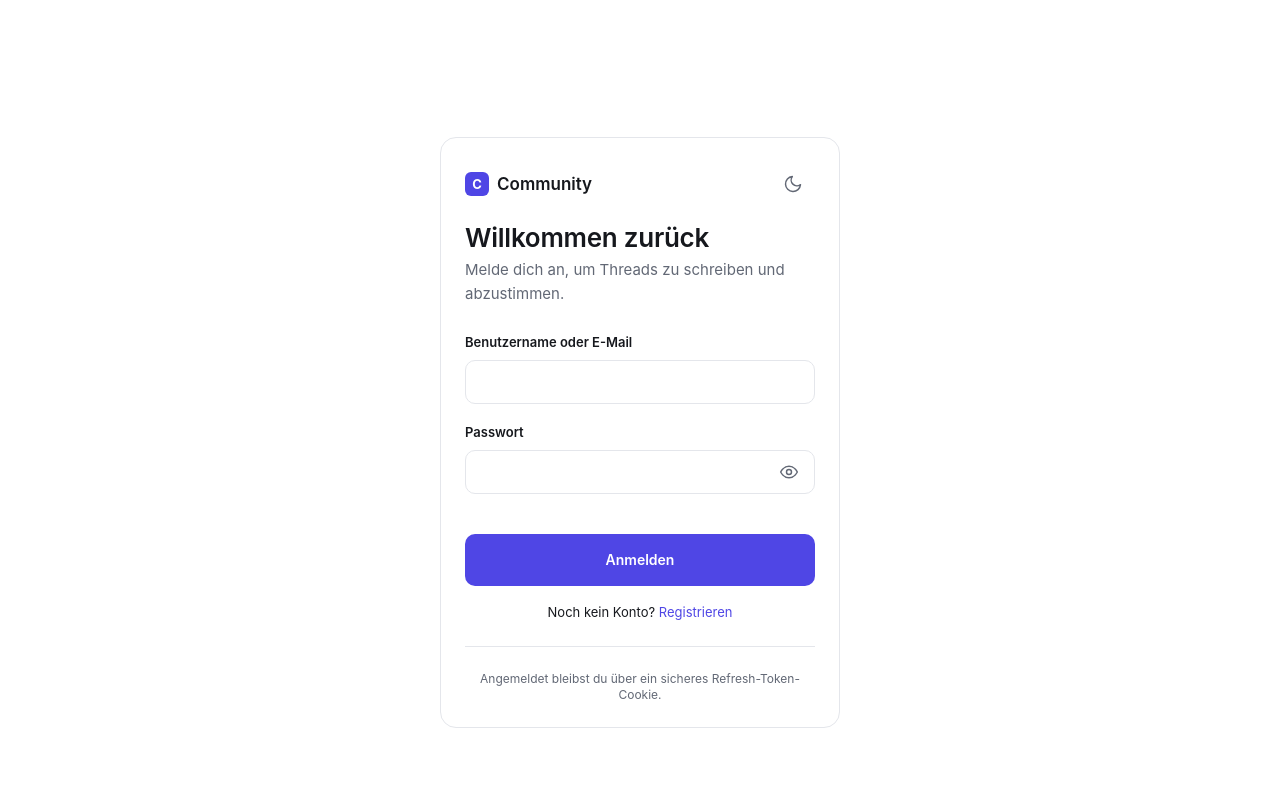
Scenario: forum authentication screens › signs in and lands on the home page with the account in the header
In the field labelled "Benutzername oder E-Mail": (640, 382) [465,360,815,404], type "mara@example.com"
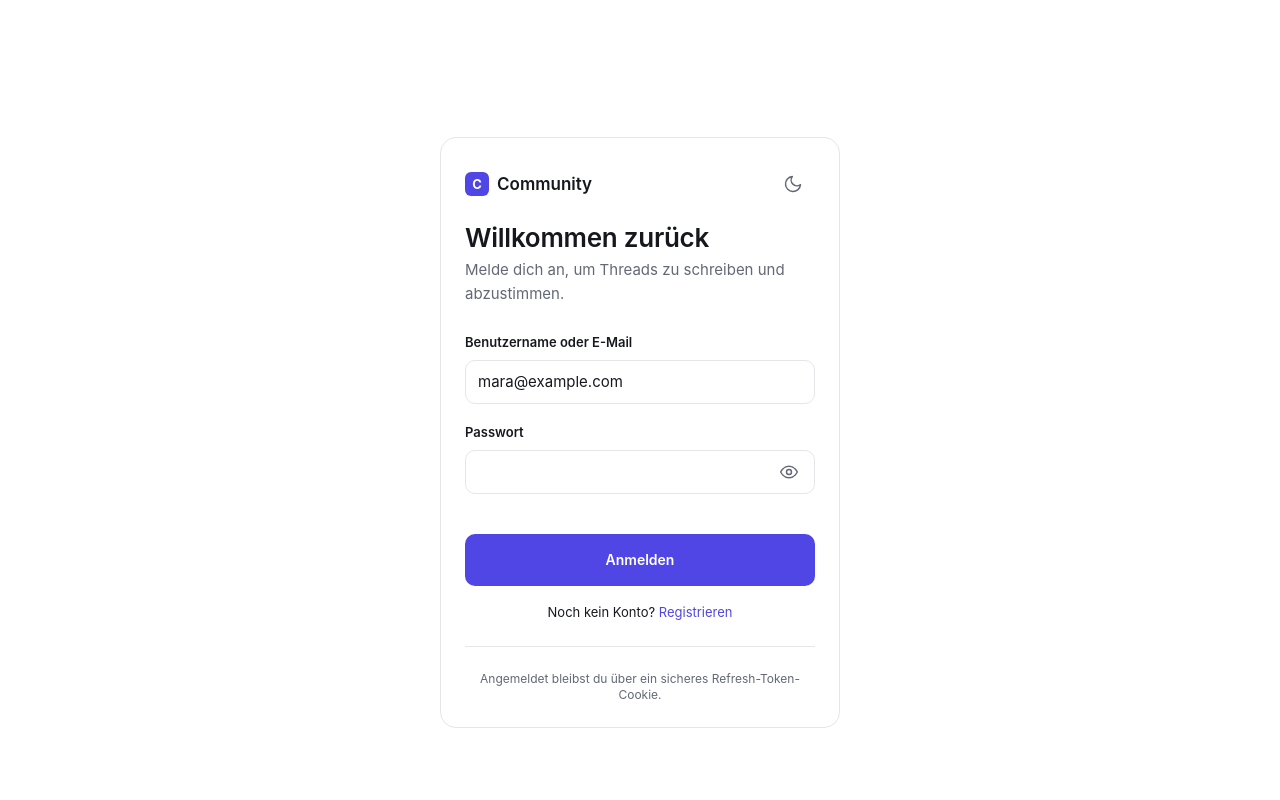
In the password field labelled "Passwort": (640, 472) [465,450,815,494], type "Sommer2026"
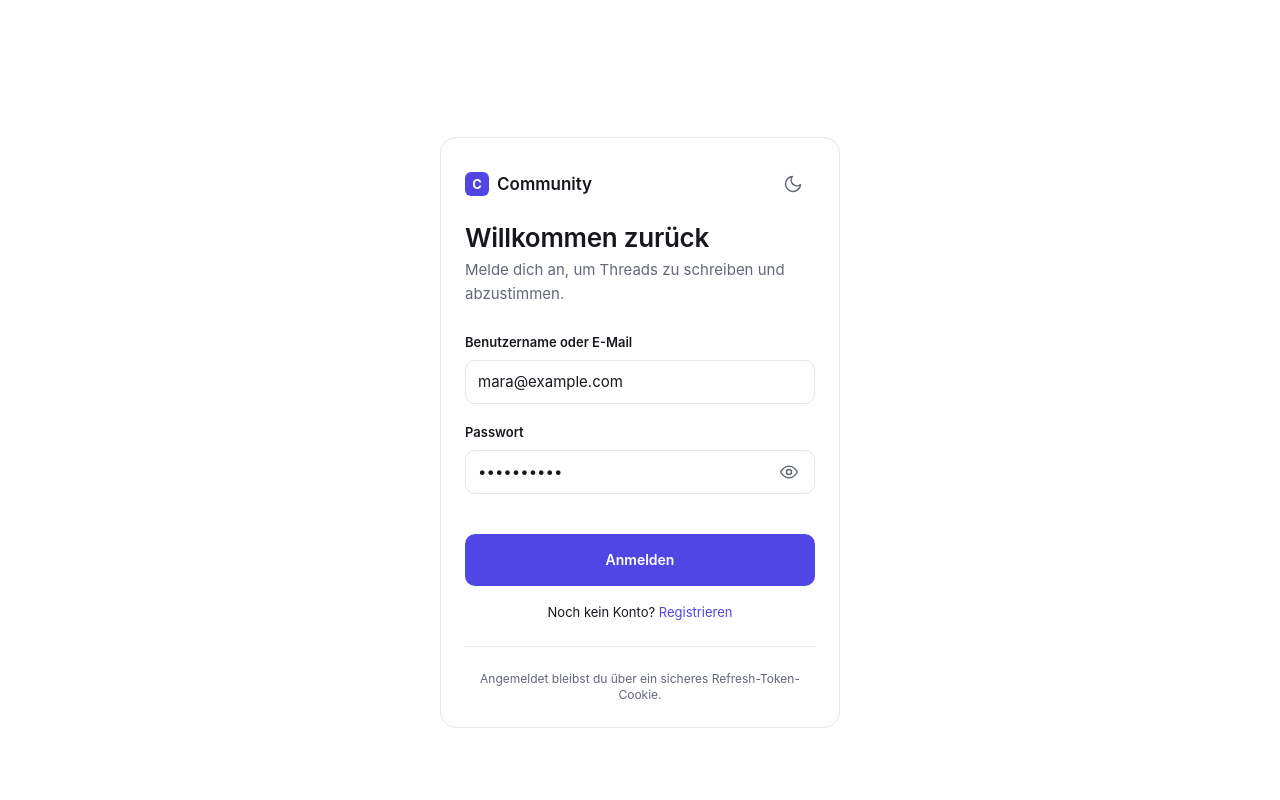
Click the button "Anmelden": (640, 560) [465,534,815,586]
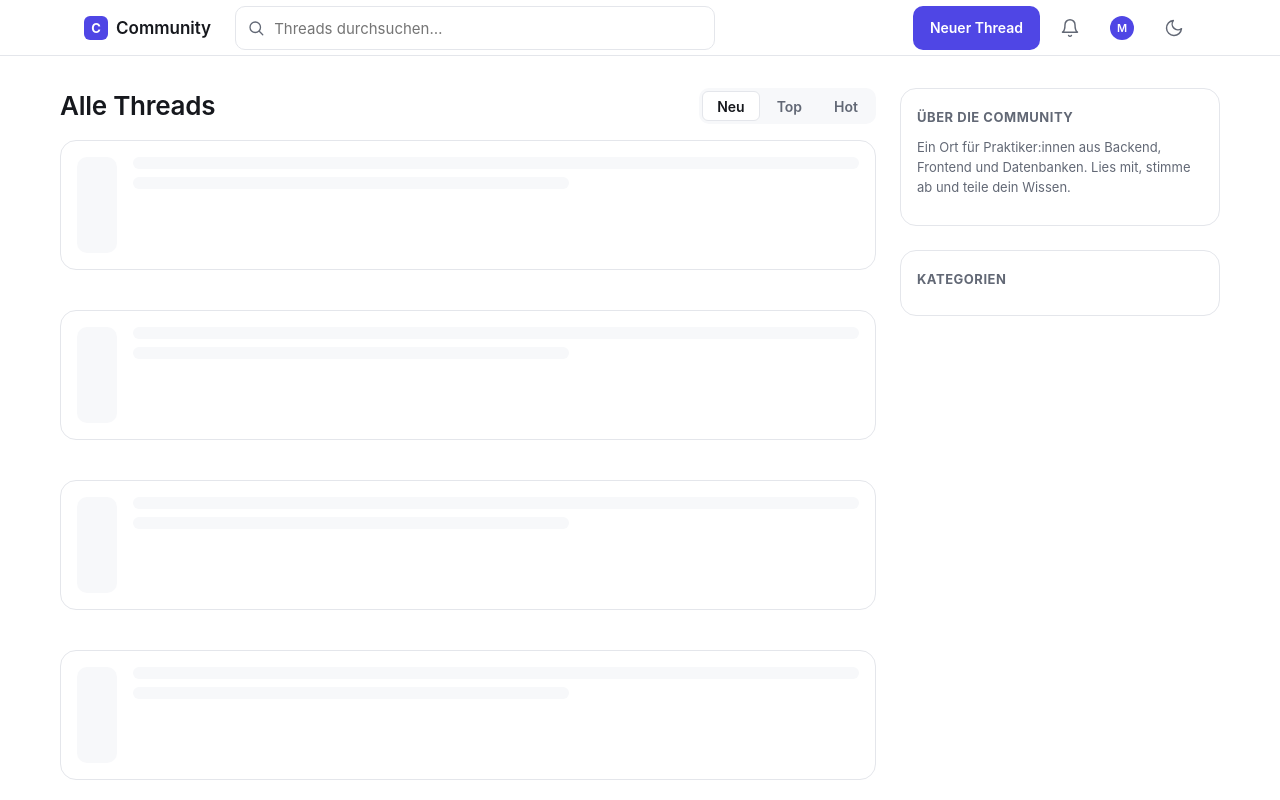
Result: the heading "Alle Threads" is shown at [60,90,215,122]
Result: the header with class "app-header" is shown at [0,0,1279,56]
Click the button named "Konto": (1122, 28) [1100,6,1144,50]
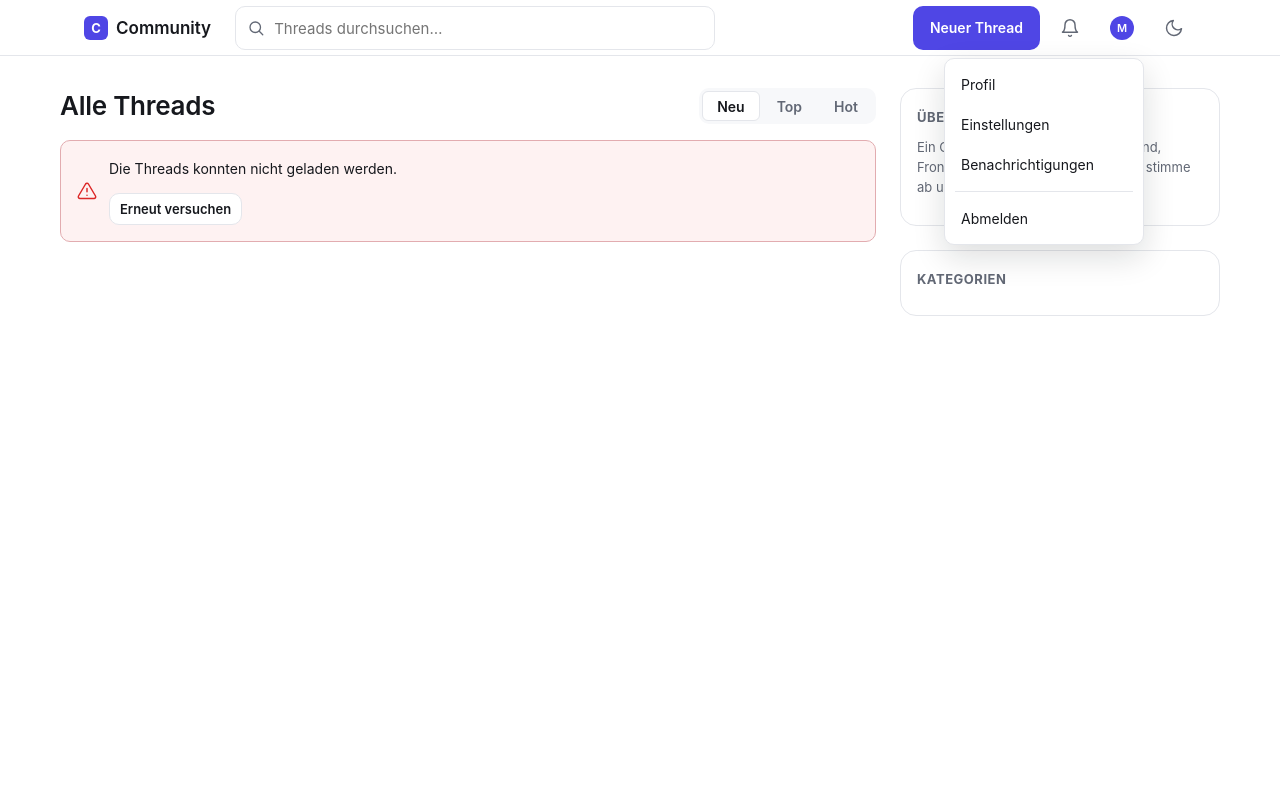
Result: the menu item "Abmelden" is shown at [951,198,1137,238]
